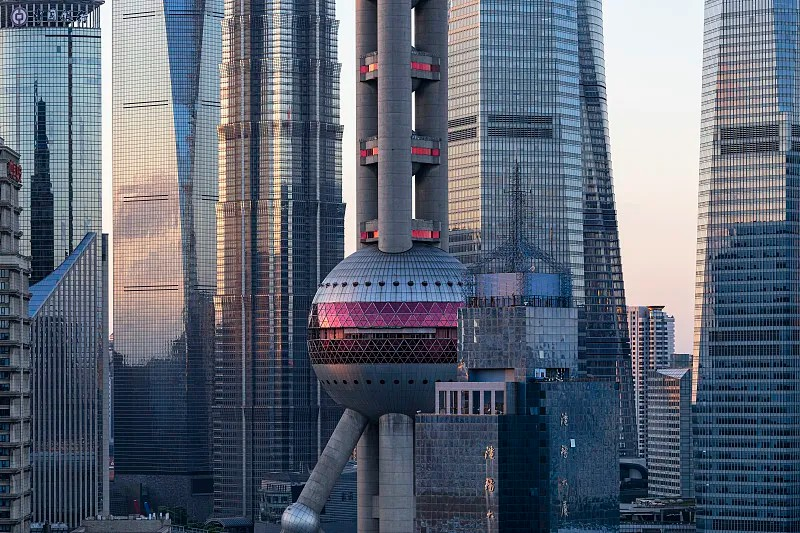Oriental: (283, 2, 472, 533)
